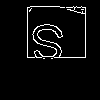S: (30, 24, 66, 71)
